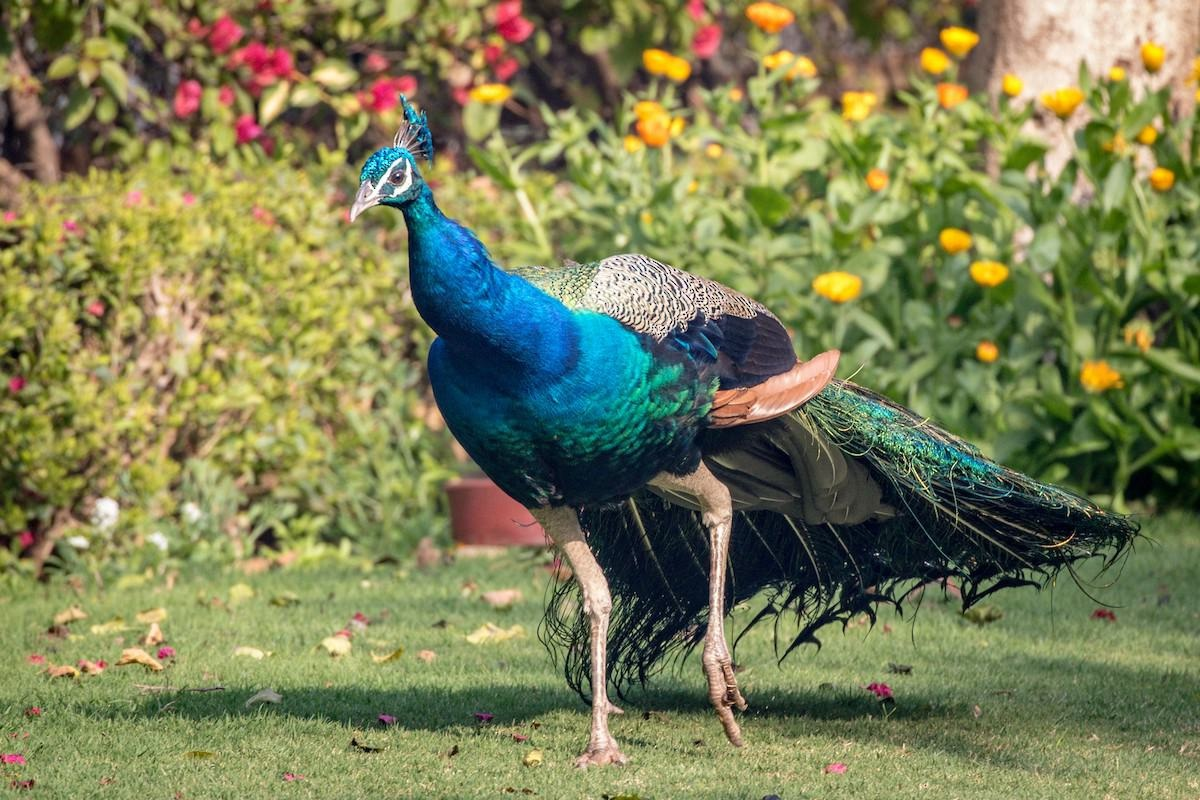peacock: (289, 75, 1037, 754)
